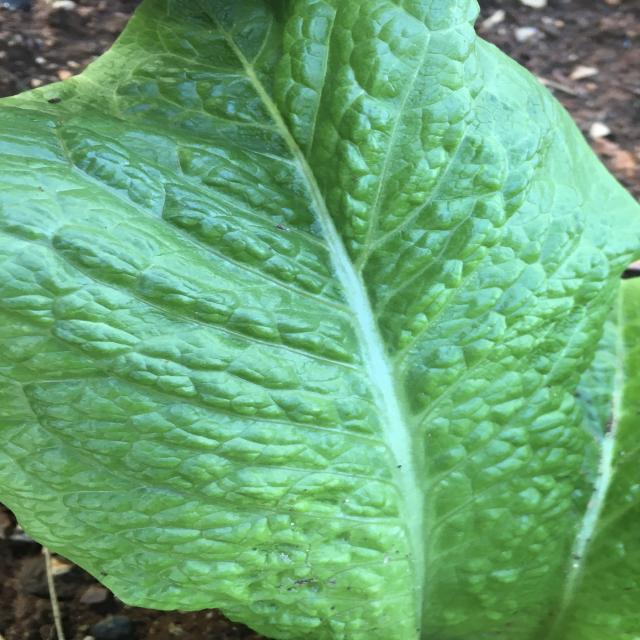Healthy Lettuce: (3, 2, 636, 636)
